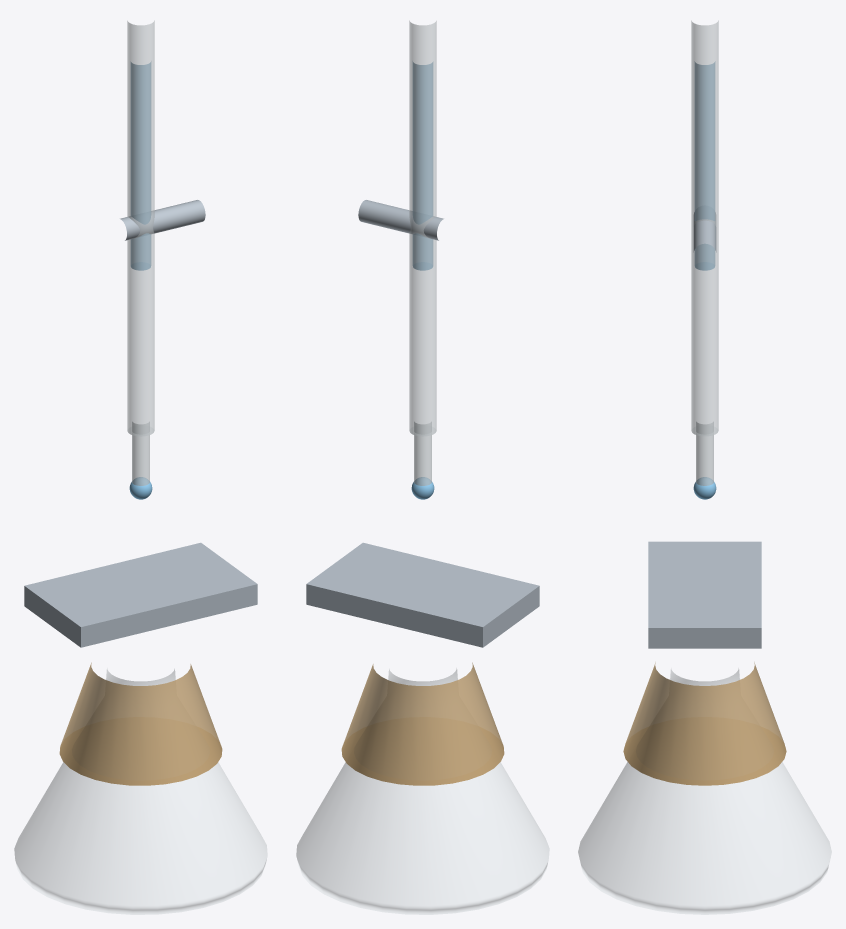
Rendered from titration-setup.glb.
3 views of the same model, side by side, from view 1: azimuth 30°, elevation 25°; view 2: azimuth 150°, elevation 25°; view 3: azimuth 270°, elevation 25° (orthographic).
Parts seen in each view (by area): view 1: erlenmeyer_flask, burette_stand, analyte_solution, burette_tube, titrant, burette_clamp, burette_tip; view 2: erlenmeyer_flask, burette_stand, analyte_solution, burette_tube, titrant, burette_clamp, burette_tip; view 3: erlenmeyer_flask, analyte_solution, burette_stand, burette_tube, titrant, burette_tip, burette_clamp.
Boxes of the visible parts, x1,y1,x2,y2 form: erlenmeyer_flask: [14, 668, 267, 914]; burette_stand: [24, 542, 257, 647]; analyte_solution: [59, 662, 222, 785]; burette_tube: [127, 20, 154, 436]; titrant: [131, 62, 150, 270]; burette_clamp: [120, 200, 205, 240]; burette_tip: [132, 422, 149, 485]; erlenmeyer_flask: [296, 668, 549, 914]; burette_stand: [306, 542, 539, 647]; analyte_solution: [341, 662, 504, 785]; burette_tube: [409, 20, 436, 436]; titrant: [413, 62, 432, 270]; burette_clamp: [358, 200, 443, 240]; burette_tip: [414, 422, 431, 485]; erlenmeyer_flask: [578, 668, 831, 914]; analyte_solution: [623, 662, 786, 785]; burette_stand: [648, 541, 761, 648]; burette_tube: [691, 20, 718, 436]; titrant: [695, 62, 714, 270]; burette_tip: [696, 422, 713, 485]; burette_clamp: [693, 212, 716, 252].
Bounding box in the file's own units: 0.5096 × 1.87 × 0.5096.
